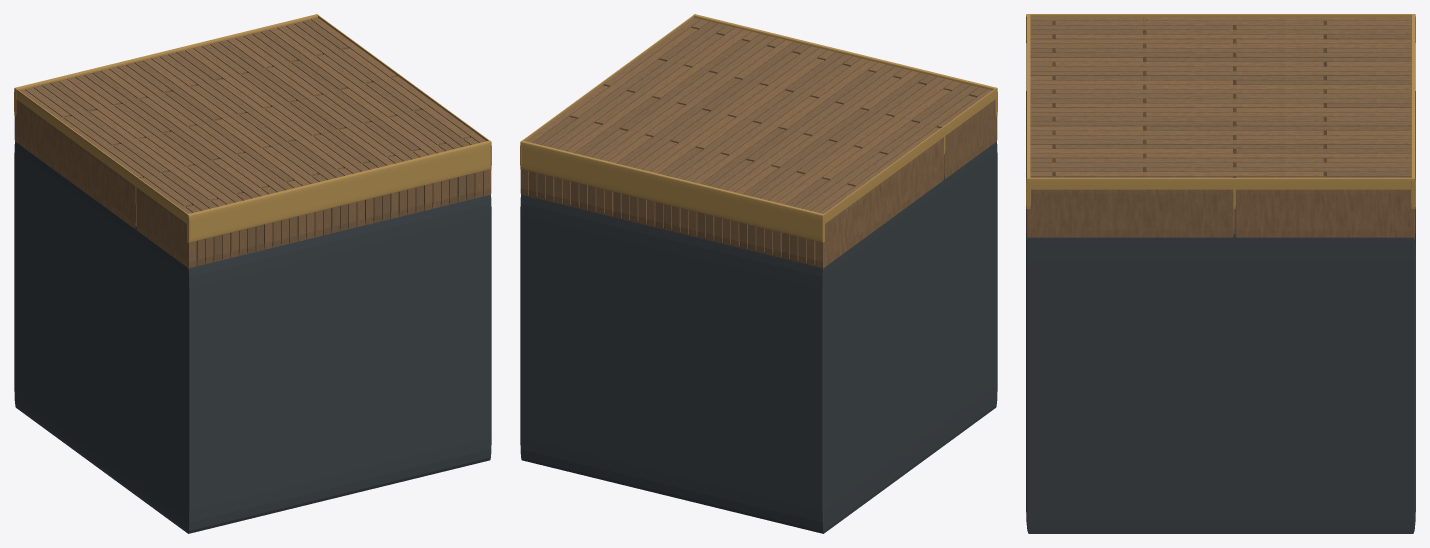
The model's file is gallery.gltf.
The picture shows the model from 3 angles, left to right: view 1: azimuth 30°, elevation 25°; view 2: azimuth 150°, elevation 25°; view 3: azimuth 270°, elevation 25°; orthographic projection. The views are drawn at different scales.
Parts seen in each view (by area): view 1: gallery; view 2: gallery; view 3: gallery.
Boxes of the visible parts, x1,y1,x2,y2 form: gallery: (14, 14, 491, 533); gallery: (520, 14, 997, 533); gallery: (1026, 14, 1415, 533).
Bounding box in the file's own units: 1 × 1.01 × 1.
7 materials, 5 textured.
